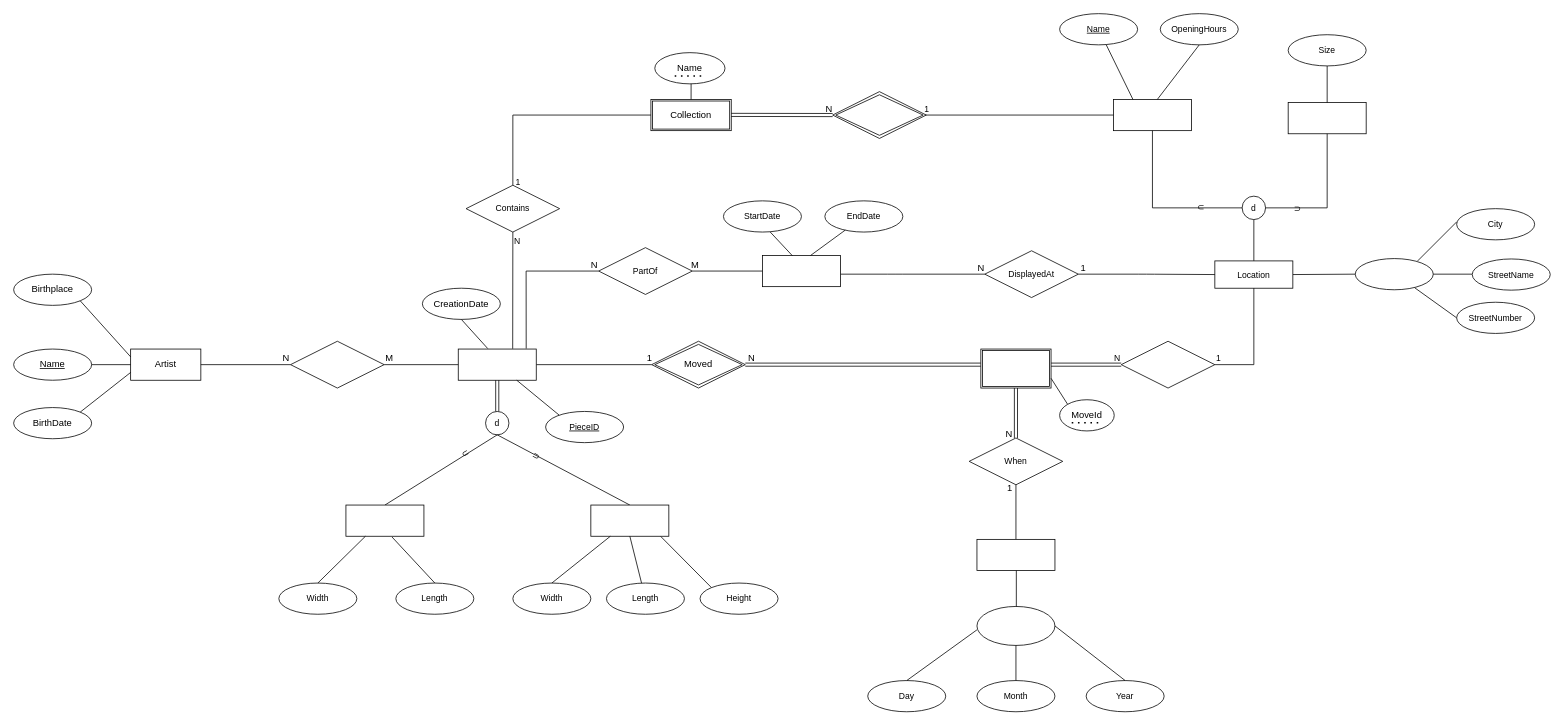
Some shapes in this 1564 by 725 pixel diagram are drawn without their labels. Here are the shapes that lost their labels. From the top down, the centre of each, then its label:
At point (879, 114): "BelongsTo".
At point (1152, 115): "Museum".
At point (1326, 118): "StorageSite".
At point (801, 271): "Exhibition".
At point (1393, 274): "Address".
At point (337, 364): "Created".
At point (496, 364): "ArtPiece".
At point (1015, 368): "Moves".
At point (1167, 364): "ToWhere".
At point (384, 520): "Painting".
At point (629, 520): "Sculpture".
At point (1015, 555): "Date".
At point (1015, 625): "DMY".
